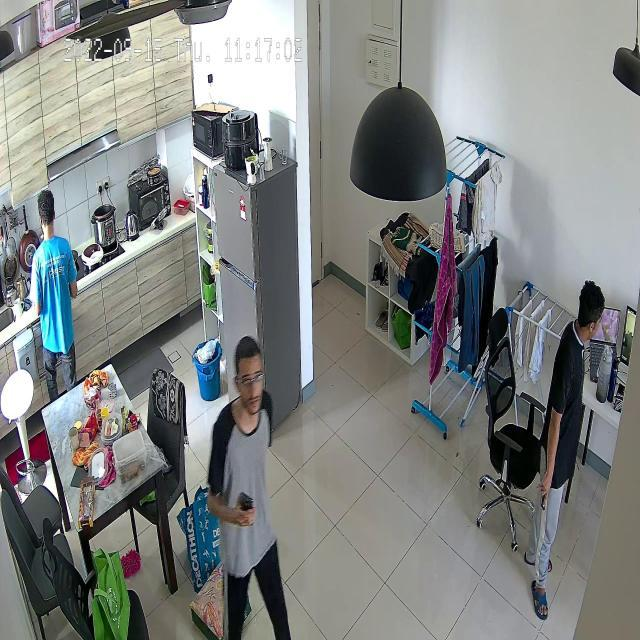Knife: (526, 477, 556, 560)
